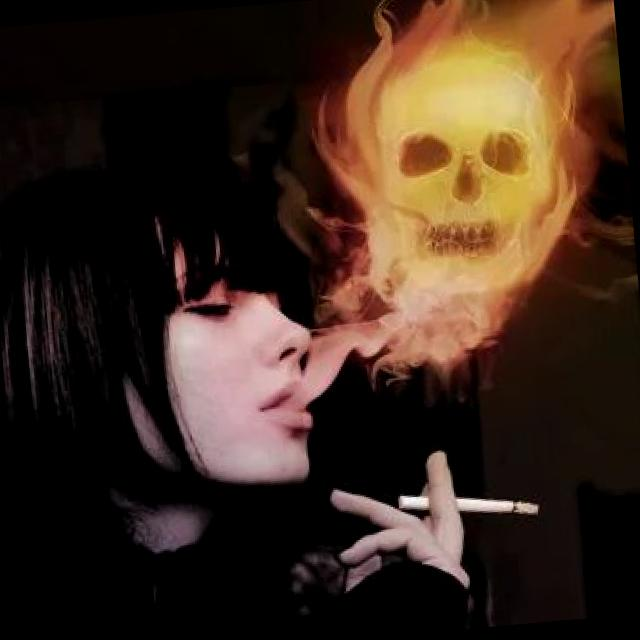smoke: (394, 479, 544, 532)
